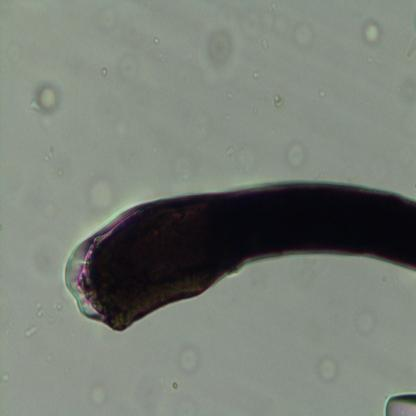Air bubble: (381, 389, 416, 416)
Background material: (196, 22, 246, 76), (81, 172, 119, 212), (29, 79, 64, 115), (172, 337, 206, 372), (310, 352, 340, 388), (292, 18, 322, 50), (35, 248, 66, 278), (358, 15, 385, 47), (113, 55, 142, 83), (280, 141, 308, 169), (351, 309, 378, 337), (89, 383, 110, 409), (222, 142, 236, 160), (23, 326, 42, 339), (33, 298, 43, 320), (272, 95, 285, 110), (266, 0, 280, 13), (260, 36, 270, 52), (152, 33, 162, 46), (318, 89, 327, 101), (250, 67, 260, 77), (46, 145, 52, 161), (101, 66, 110, 75)
Microfibre: (70, 180, 416, 328)
